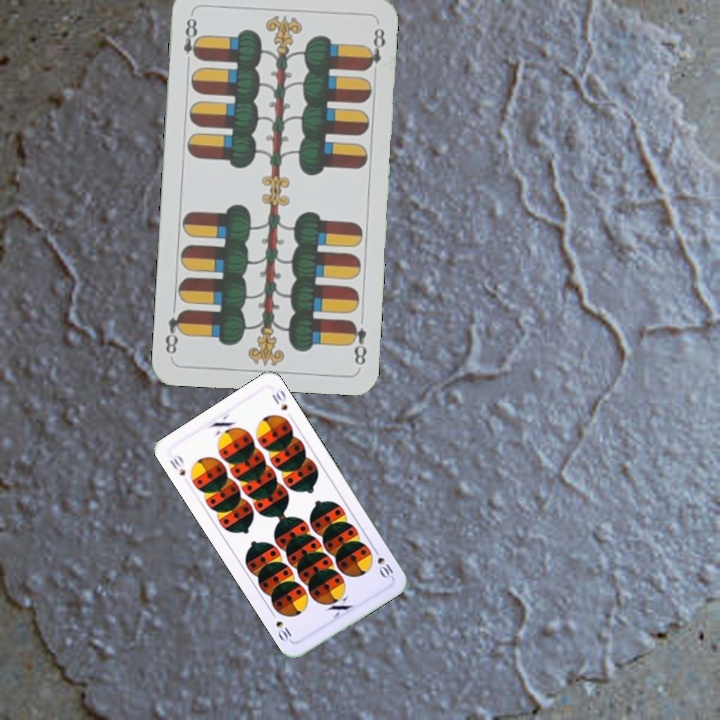E8: (179, 11, 203, 70), (345, 316, 370, 368)
S10: (369, 544, 396, 582), (165, 450, 188, 479)
